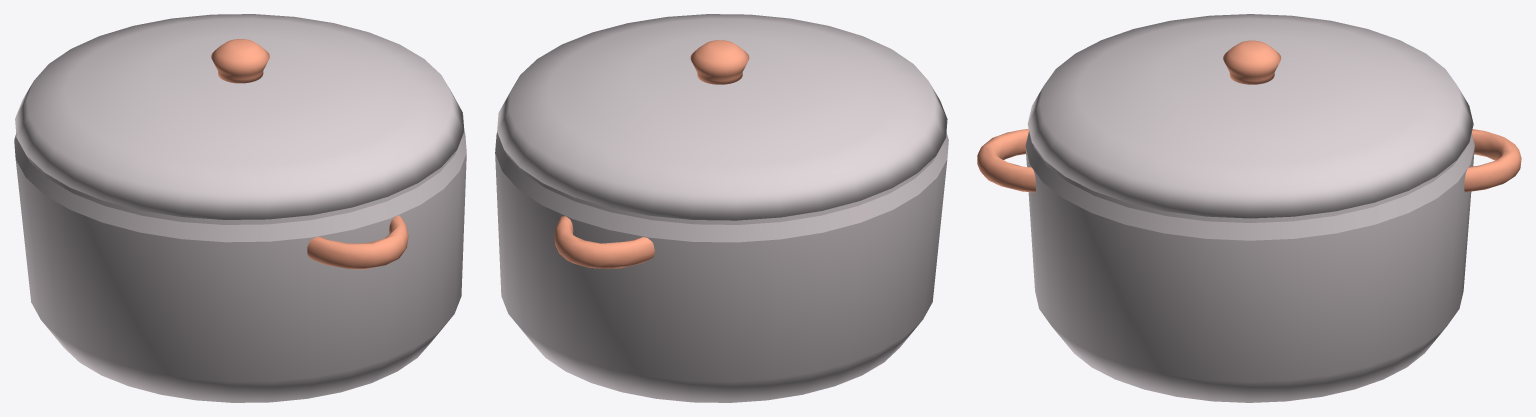
Rendered from Кастрюля(ISPRAVIL).fbx.
3 renders of one model, left to right at view 1: azimuth 30°, elevation 25°; view 2: azimuth 150°, elevation 25°; view 3: azimuth 270°, elevation 25°, orthographic.
Visible parts, largest first — view 1: Circle; view 2: Circle; view 3: Circle.
Part boxes in pixels (box(x1,y1,x2,y2)): Circle: box(14, 14, 466, 402); Circle: box(495, 14, 948, 402); Circle: box(977, 14, 1521, 402).
Size of the model in its own units: 178 by 120 by 215.
